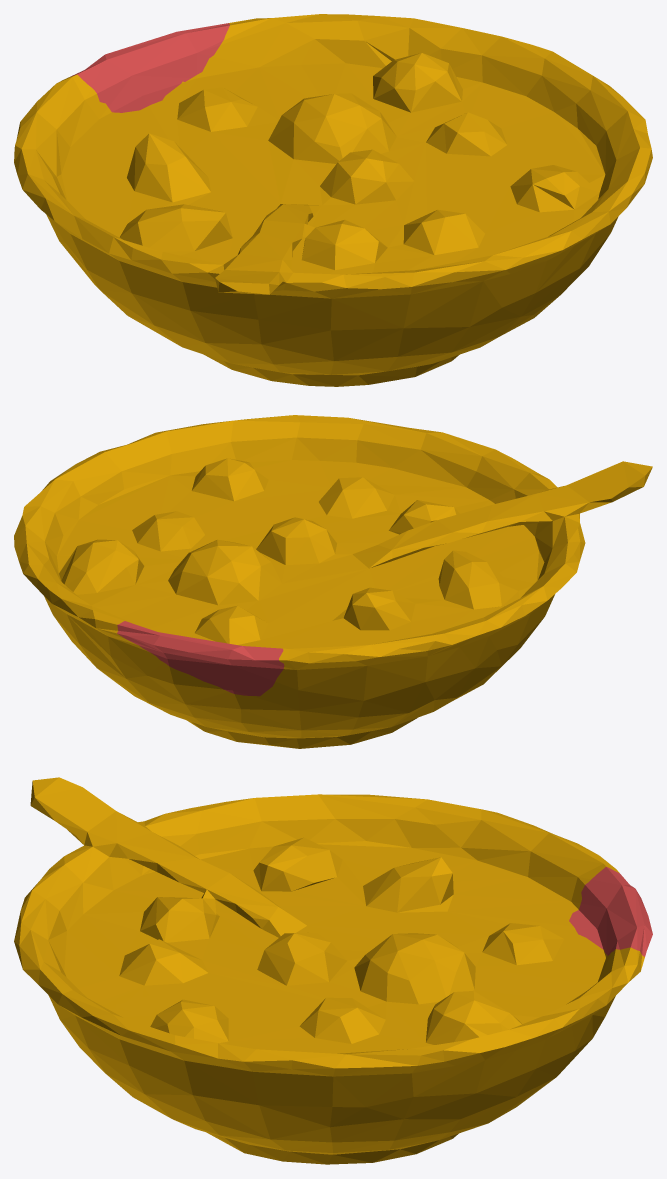
File: fractured_19_2pcs.glb
3 views of the same model, one above another, from view 1: azimuth 30°, elevation 25°; view 2: azimuth 150°, elevation 25°; view 3: azimuth 270°, elevation 25° (orthographic). The views are drawn at different scales.
Visible parts, largest first — view 1: piece_0.obj, piece_1.obj; view 2: piece_0.obj, piece_1.obj; view 3: piece_0.obj, piece_1.obj.
Boxes of the visible parts, x1,y1,x2,y2 form: piece_0.obj: [14, 14, 652, 386]; piece_1.obj: [70, 23, 229, 112]; piece_0.obj: [14, 415, 652, 748]; piece_1.obj: [117, 621, 284, 696]; piece_0.obj: [14, 777, 644, 1164]; piece_1.obj: [569, 866, 652, 956].
Size of the model in its own units: 1 by 0.3508 by 0.9972.
